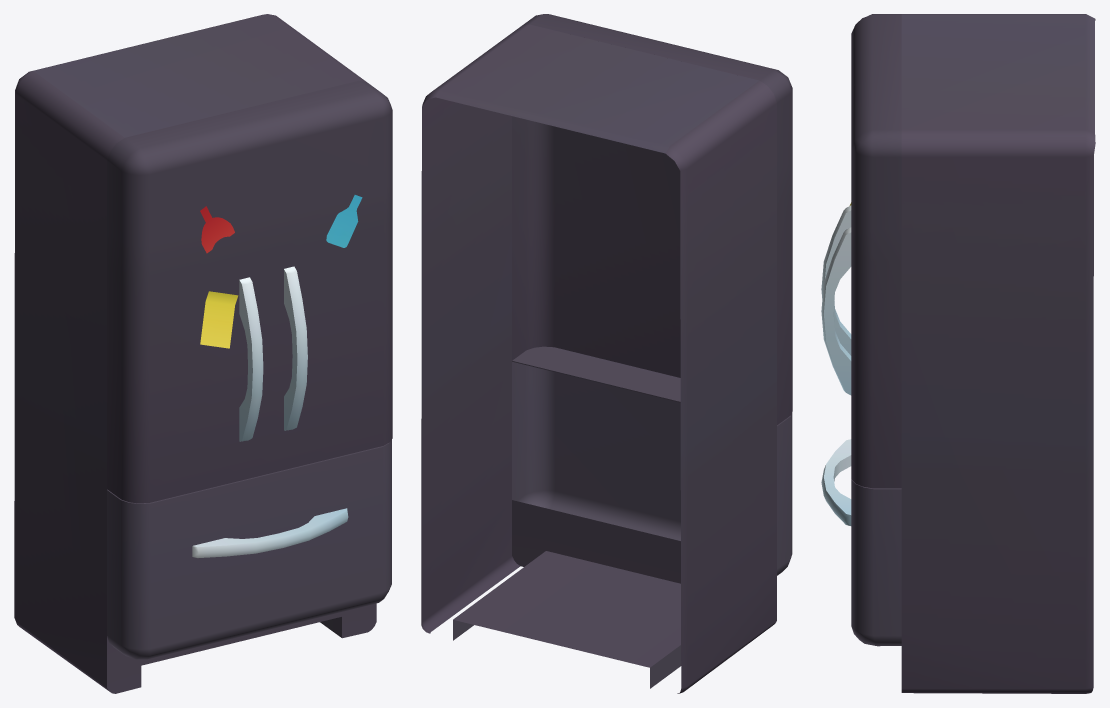
The model's file is Fridge.fbx.
3 renders of one model, left to right at view 1: azimuth 30°, elevation 25°; view 2: azimuth 150°, elevation 25°; view 3: azimuth 270°, elevation 25°, orthographic. The views are drawn at different scales.
Visible parts, largest first — view 1: Fridge; view 2: Fridge; view 3: Fridge.
Part boxes in pixels (left/top/right/bottom): Fridge: left=14, top=14, right=392, bottom=693; Fridge: left=421, top=14, right=792, bottom=693; Fridge: left=821, top=14, right=1095, bottom=693.
Bounding box in the file's own units: 10.5 × 20.63 × 9.16.
1 material, 1 textured.
